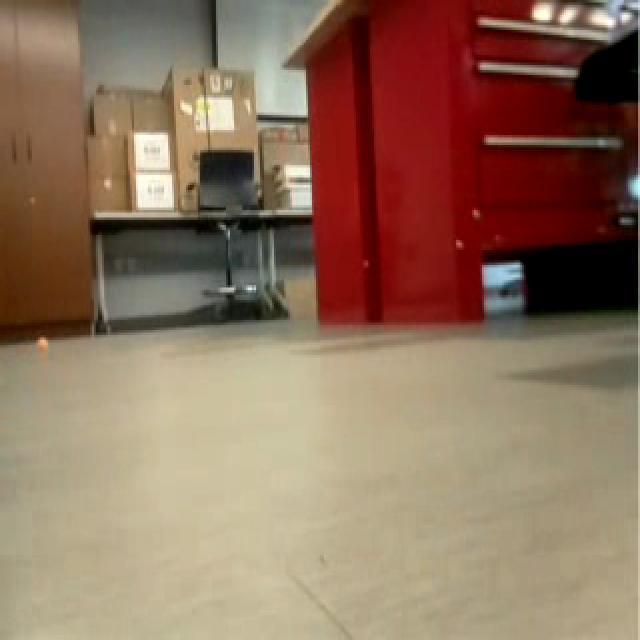ping-pong-ball: (33, 333, 51, 355)
